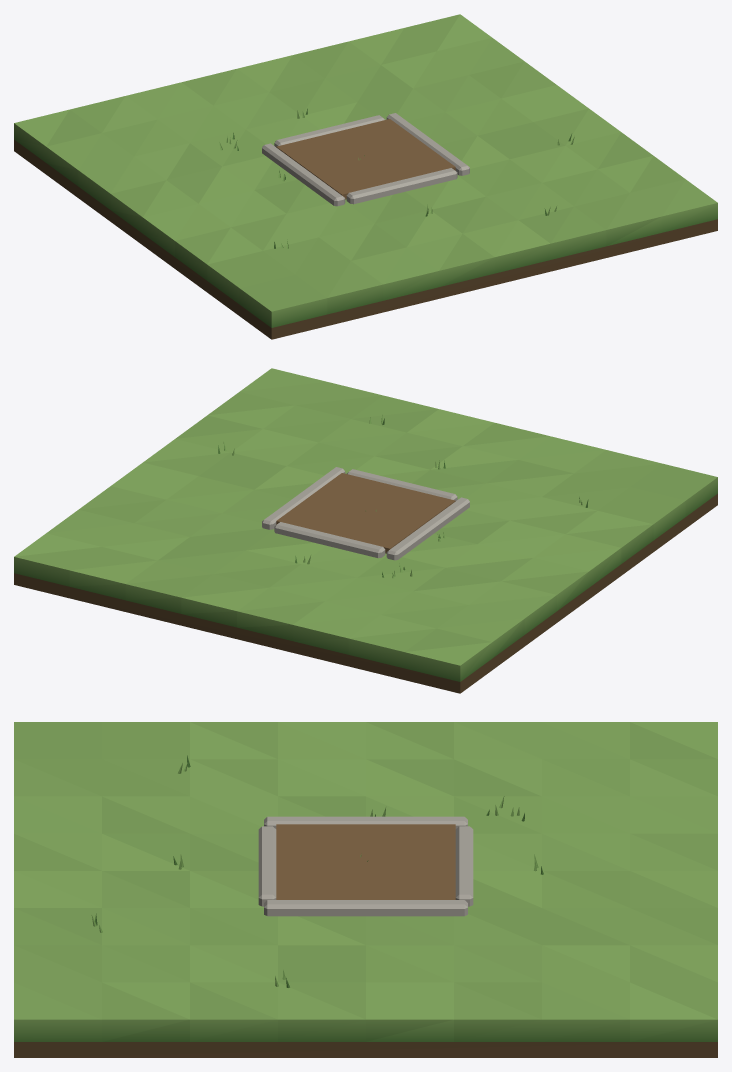
The model's file is lawn-palm-verge-tile.glb.
3 views of the same model, one above another, from view 1: azimuth 30°, elevation 25°; view 2: azimuth 150°, elevation 25°; view 3: azimuth 270°, elevation 25° (orthographic). The views are drawn at different scales.
Visible parts, largest first — view 1: lawn_palm_verge_tile; view 2: lawn_palm_verge_tile; view 3: lawn_palm_verge_tile.
Boxes of the visible parts, bbox=[...] form: lawn_palm_verge_tile: bbox=[14, 14, 717, 339]; lawn_palm_verge_tile: bbox=[14, 368, 717, 693]; lawn_palm_verge_tile: bbox=[14, 722, 717, 1057].
Bounding box in the file's own units: 4 × 0.3245 × 4.
